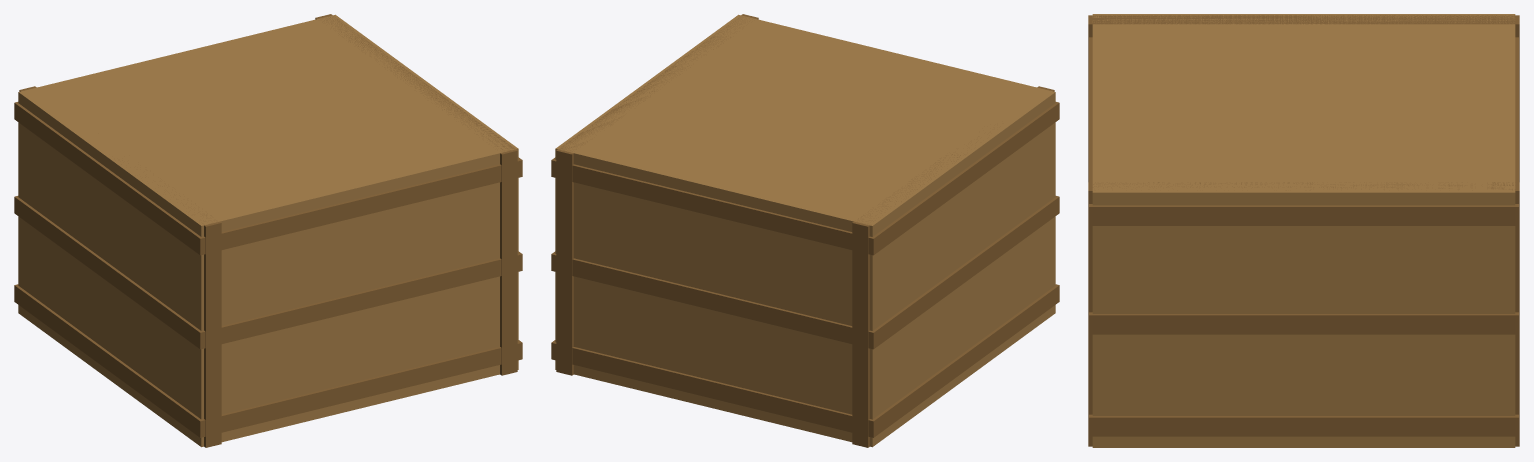
File: crate.glb
3 renders of one model, left to right at view 1: azimuth 30°, elevation 25°; view 2: azimuth 150°, elevation 25°; view 3: azimuth 270°, elevation 25°, orthographic. The views are drawn at different scales.
Visible parts, largest first — view 1: crate; view 2: crate; view 3: crate.
Part boxes in pixels (left/top/right/bottom): crate: left=14, top=14, right=522, bottom=447; crate: left=551, top=14, right=1059, bottom=447; crate: left=1088, top=14, right=1519, bottom=447.
Bounding box in the file's own units: 0.61 × 0.4 × 0.612.
